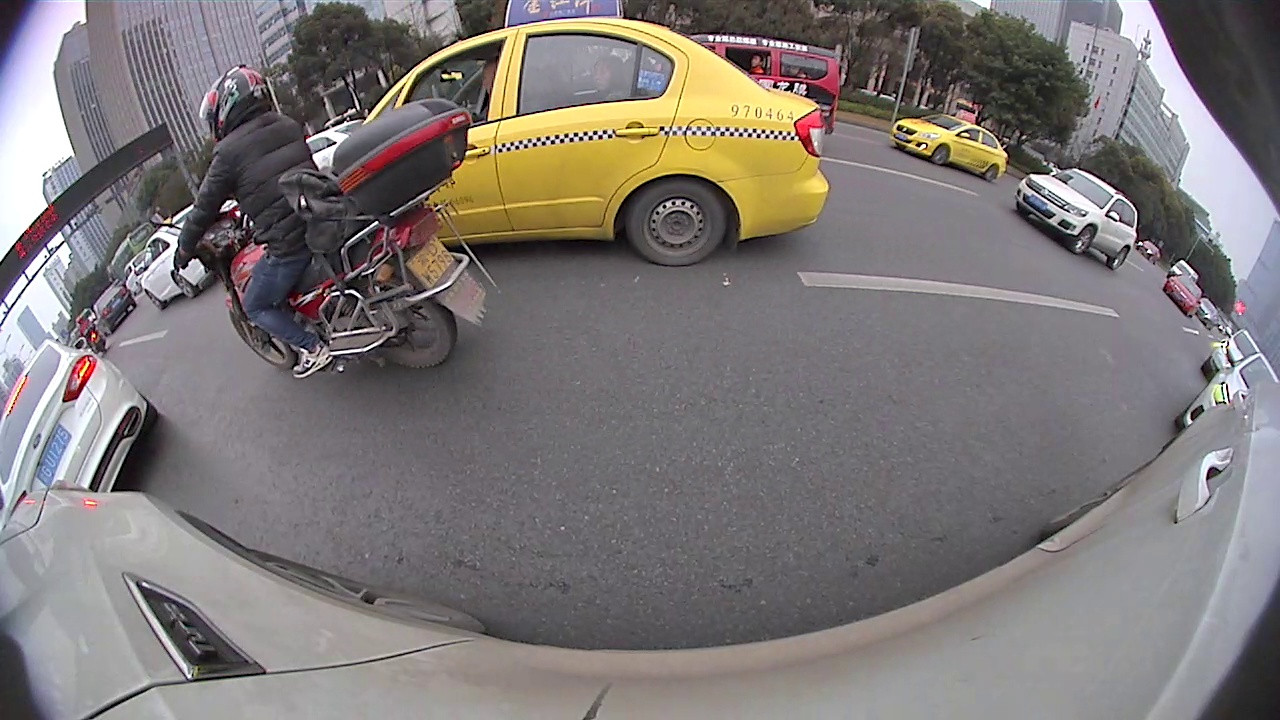car: (354, 1, 829, 264), (2, 349, 158, 490), (679, 37, 838, 137), (1015, 171, 1137, 269), (143, 204, 242, 312), (1173, 354, 1278, 433), (892, 112, 1008, 181), (1202, 328, 1263, 380), (98, 285, 133, 328)
front: (228, 305, 300, 373), (1072, 224, 1096, 256), (932, 143, 953, 164), (146, 289, 164, 312)
rear: (354, 274, 456, 365), (628, 179, 726, 266), (169, 271, 196, 299), (1109, 244, 1130, 273), (984, 163, 1001, 183)
rider: (170, 73, 473, 371), (75, 312, 109, 354)
